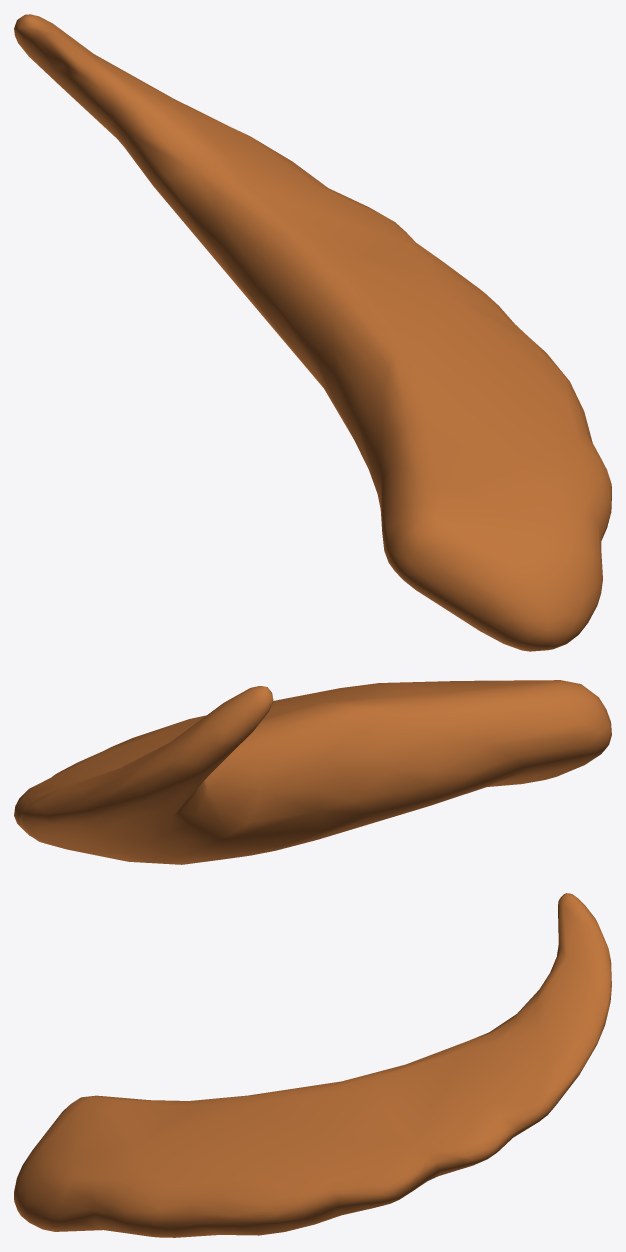
The model's file is Hippocampus_left.glb.
The picture shows the model from 3 angles, top to bottom: view 1: azimuth 30°, elevation 25°; view 2: azimuth 150°, elevation 25°; view 3: azimuth 270°, elevation 25°; orthographic projection. The views are drawn at different scales.
Parts seen in each view (by area): view 1: Hippocampus.l_grp1.093; view 2: Hippocampus.l_grp1.093; view 3: Hippocampus.l_grp1.093.
Boxes of the visible parts, x1,y1,x2,y2 form: Hippocampus.l_grp1.093: [14, 14, 611, 651]; Hippocampus.l_grp1.093: [14, 680, 611, 864]; Hippocampus.l_grp1.093: [14, 893, 611, 1237].
Bounding box in the file's own units: 0.0194 × 0.0213 × 0.0416.
